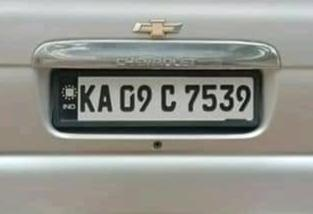0: (119, 82, 136, 114)
3: (219, 80, 236, 114)
5: (201, 82, 221, 111)
7: (183, 81, 201, 114)
9: (235, 81, 254, 115), (136, 82, 154, 113)
A: (97, 82, 115, 116)
C: (158, 82, 180, 113)
K: (78, 81, 97, 114)
